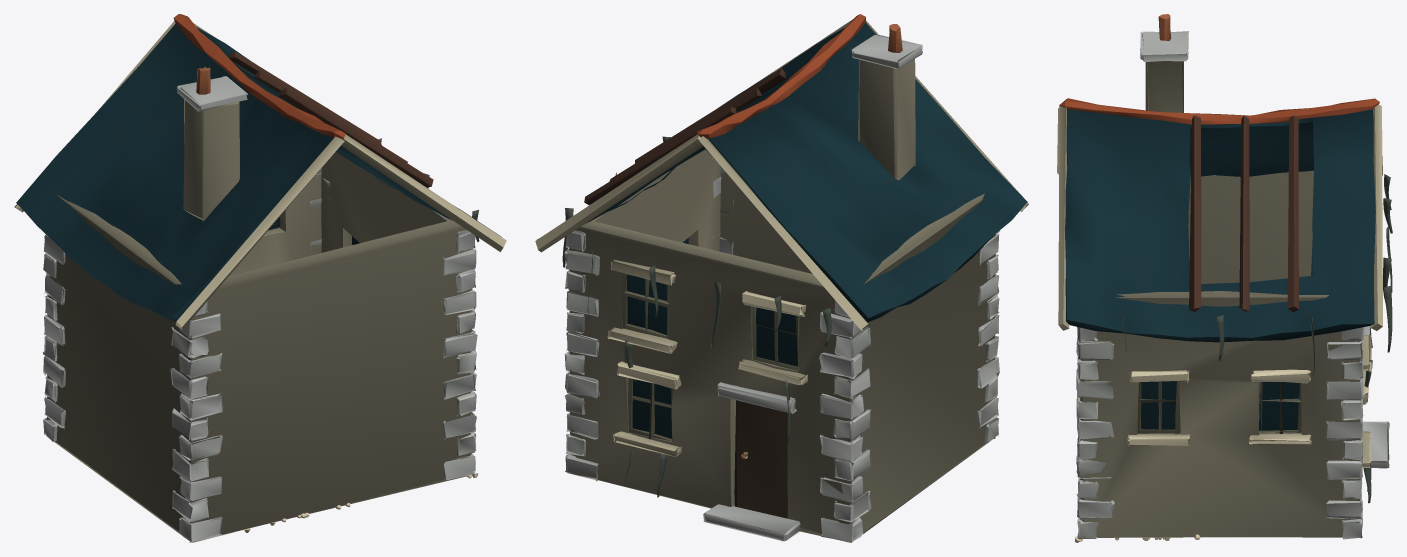
Rendered from town_house.glb.
3 views of the same model, side by side, from view 1: azimuth 30°, elevation 25°; view 2: azimuth 150°, elevation 25°; view 3: azimuth 270°, elevation 25° (orthographic). The views are drawn at different scales.
Parts seen in each view (by area): view 1: town_house; view 2: town_house; view 3: town_house.
Boxes of the visible parts, bbox=[...] form: town_house: bbox=[14, 14, 506, 542]; town_house: bbox=[535, 14, 1028, 542]; town_house: bbox=[1057, 14, 1392, 542].
Size of the model in its own units: 6.21 by 7.62 by 5.51.
